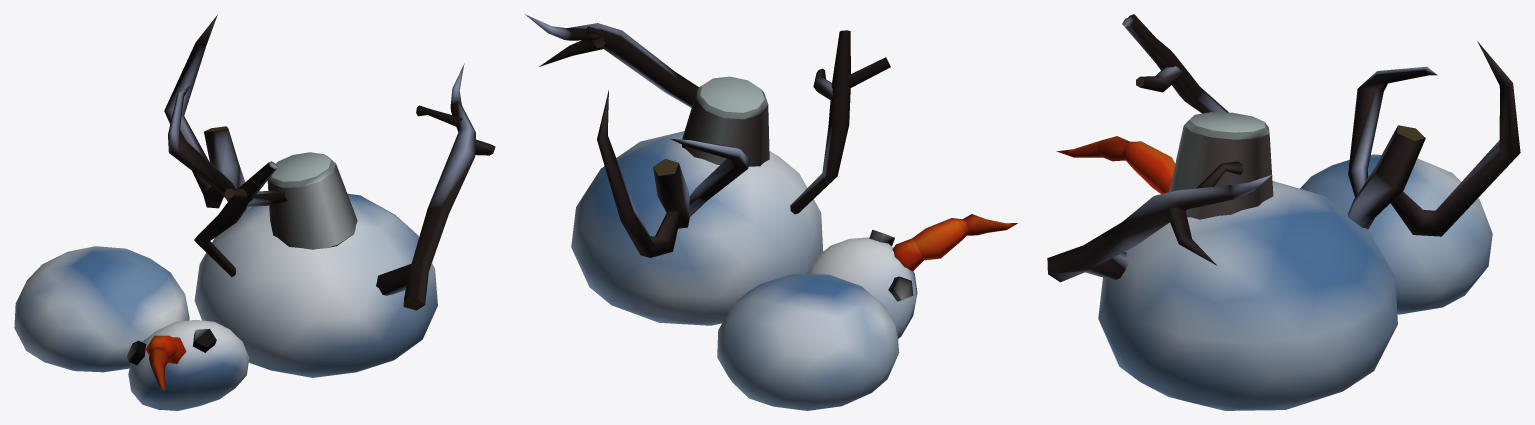
Rendered from Snowman_03.fbx.
The picture shows the model from 3 angles, left to right: view 1: azimuth 30°, elevation 25°; view 2: azimuth 150°, elevation 25°; view 3: azimuth 270°, elevation 25°; orthographic projection. The views are drawn at different scales.
Visible parts, largest first — view 1: Snowman_03; view 2: Snowman_03; view 3: Snowman_03.
Part boxes in pixels (left/top/right/bottom): Snowman_03: left=14, top=14, right=495, bottom=410; Snowman_03: left=525, top=14, right=1017, bottom=410; Snowman_03: left=1047, top=14, right=1520, bottom=410.
Size of the model in its own units: 2127 by 1480 by 1746.
